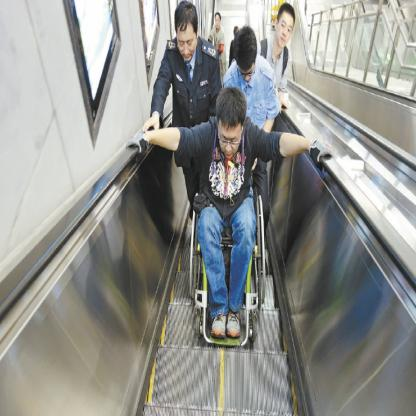wheelchair: (138, 87, 321, 354)
